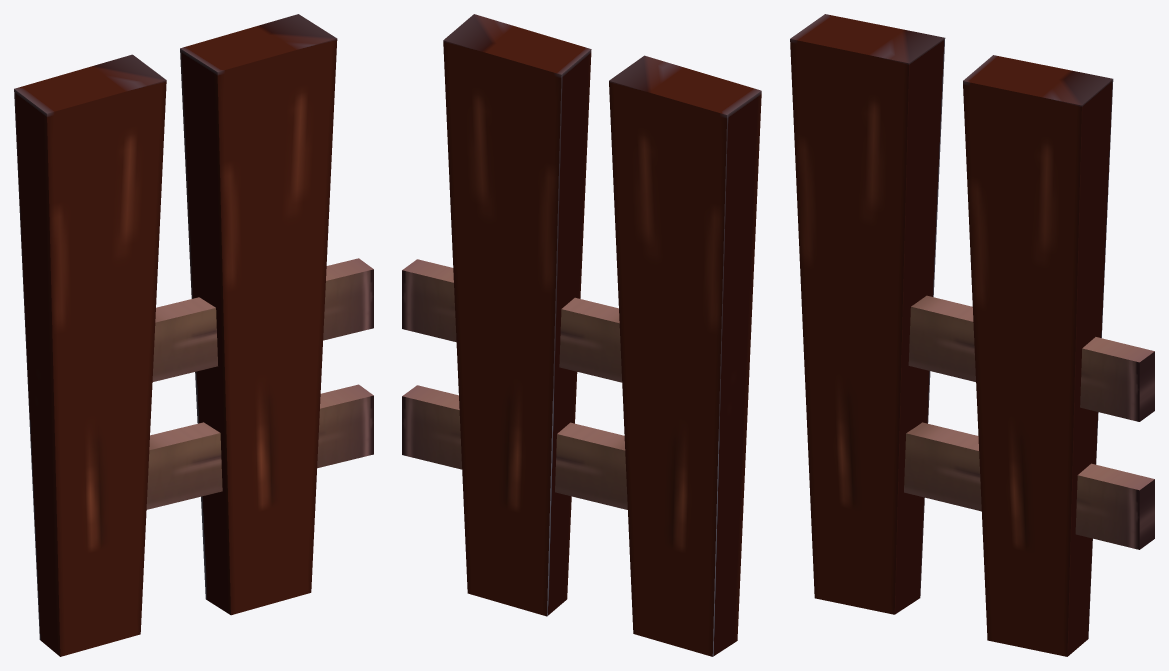
Rendered from fence_3.gltf.
3 views of the same model, side by side, from view 1: azimuth 30°, elevation 25°; view 2: azimuth 150°, elevation 25°; view 3: azimuth 330°, elevation 25° (orthographic).
Visible parts, largest first — view 1: Fence3Mesh; view 2: Fence3Mesh; view 3: Fence3Mesh.
Boxes of the visible parts, x1,y1,x2,y2 form: Fence3Mesh: (14, 14, 373, 656); Fence3Mesh: (402, 14, 761, 656); Fence3Mesh: (790, 14, 1154, 656).
Size of what is drawn, in the model's own units: 0.5573 by 0.883 by 0.1001.
Materials: 1 (1 with a texture image).
